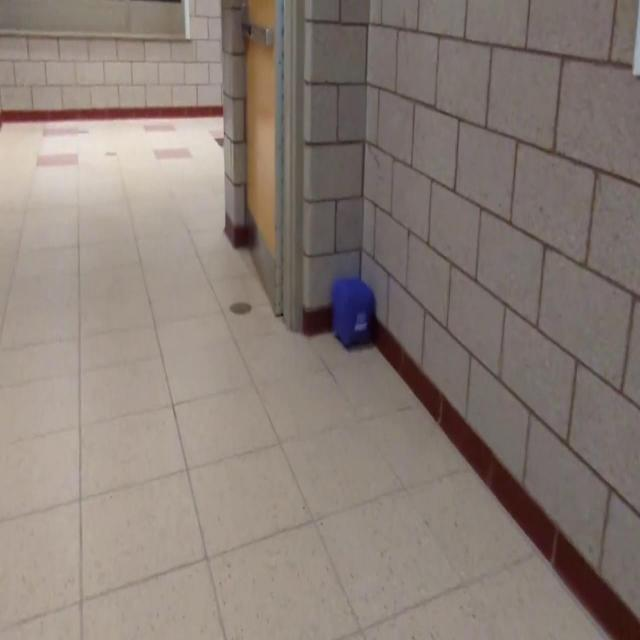frc_cube: (333, 276, 375, 352)
